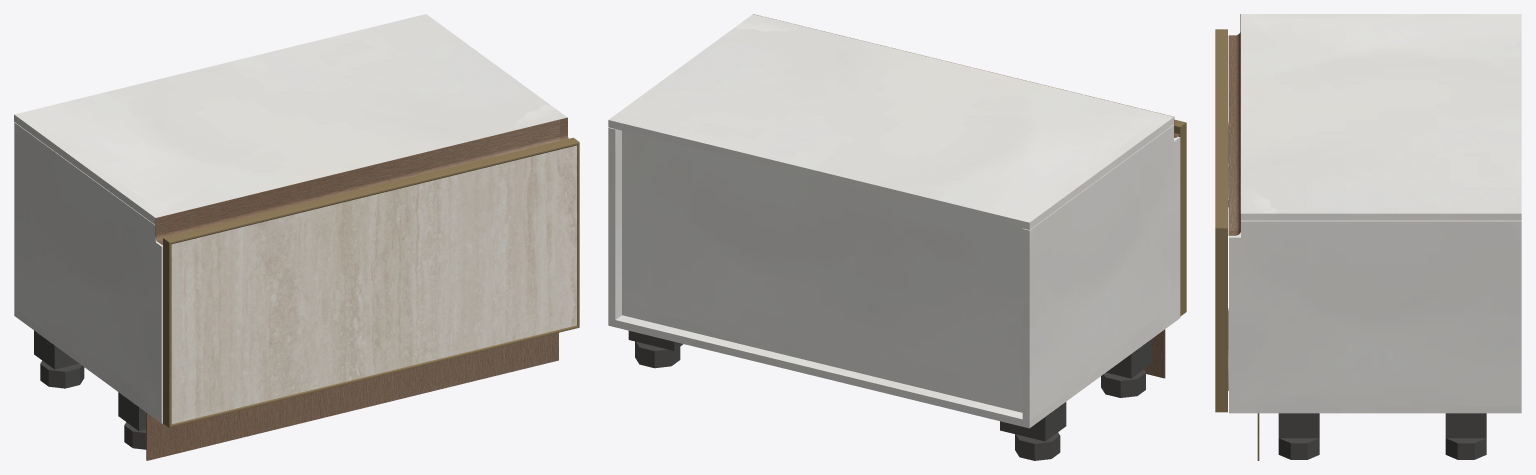
Rendered from BC-DW-CJ-ST-1HB-XXX-900-520-560-15.glb.
3 renders of one model, left to right at view 1: azimuth 30°, elevation 25°; view 2: azimuth 150°, elevation 25°; view 3: azimuth 270°, elevation 25°, orthographic. The views are drawn at different scales.
Visible parts, largest first — view 1: Object_node_39, TP_node_1, TP_node, Object_node_41, ExtrSplGeo, Extrusion, Extrusion_node_1, Extrusion_node_0, TP, Foot, Plate, Plate_node_0; view 2: TP_node_4, TP_node_1, TP_node, TP, TP_node_0, Extrusion_node_1, Plate, Foot, Foot_node_0, Foot_node, Plate_node_0, Object_node_41; view 3: TP_node_1, TP_node_0, ExtrSplGeo, Extrusion, Extrusion_node, TP, Plate_node, Plate_node_1, Foot_node_1, Foot_node.
Part boxes in pixels (x1,y1,x2,y2): Object_node_39: [171, 145, 576, 423]; TP_node_1: [14, 14, 567, 224]; TP_node: [14, 122, 162, 416]; Object_node_41: [146, 333, 558, 460]; ExtrSplGeo: [155, 117, 568, 244]; Extrusion: [163, 137, 579, 244]; Extrusion_node_1: [163, 238, 171, 427]; Extrusion_node_0: [170, 325, 579, 427]; TP: [14, 309, 162, 423]; Foot: [40, 360, 84, 388]; Plate: [34, 330, 78, 369]; Plate_node_0: [118, 392, 146, 430]; TP_node_4: [622, 130, 1022, 412]; TP_node_1: [608, 14, 1173, 229]; TP_node: [1022, 124, 1180, 420]; TP: [608, 311, 1180, 428]; TP_node_0: [608, 127, 621, 319]; Extrusion_node_1: [1174, 123, 1186, 316]; Plate: [1000, 402, 1066, 441]; Foot: [1015, 432, 1060, 460]; Foot_node_0: [1101, 369, 1145, 397]; Foot_node: [635, 341, 680, 368]; Plate_node_0: [1106, 339, 1152, 378]; Object_node_41: [1144, 329, 1165, 378]; TP_node_1: [1241, 14, 1521, 220]; TP_node_0: [1229, 220, 1521, 406]; ExtrSplGeo: [1228, 14, 1240, 235]; Extrusion: [1215, 29, 1227, 228]; Extrusion_node: [1215, 228, 1227, 412]; TP: [1229, 406, 1521, 413]; Plate_node: [1445, 413, 1486, 438]; Plate_node_1: [1278, 413, 1319, 438]; Foot_node_1: [1278, 438, 1319, 459]; Foot_node: [1445, 438, 1486, 459].
Size of what is drawn, in the model's own units: 0.9 by 0.52 by 0.5842.
Materials: 7 (3 with a texture image).
